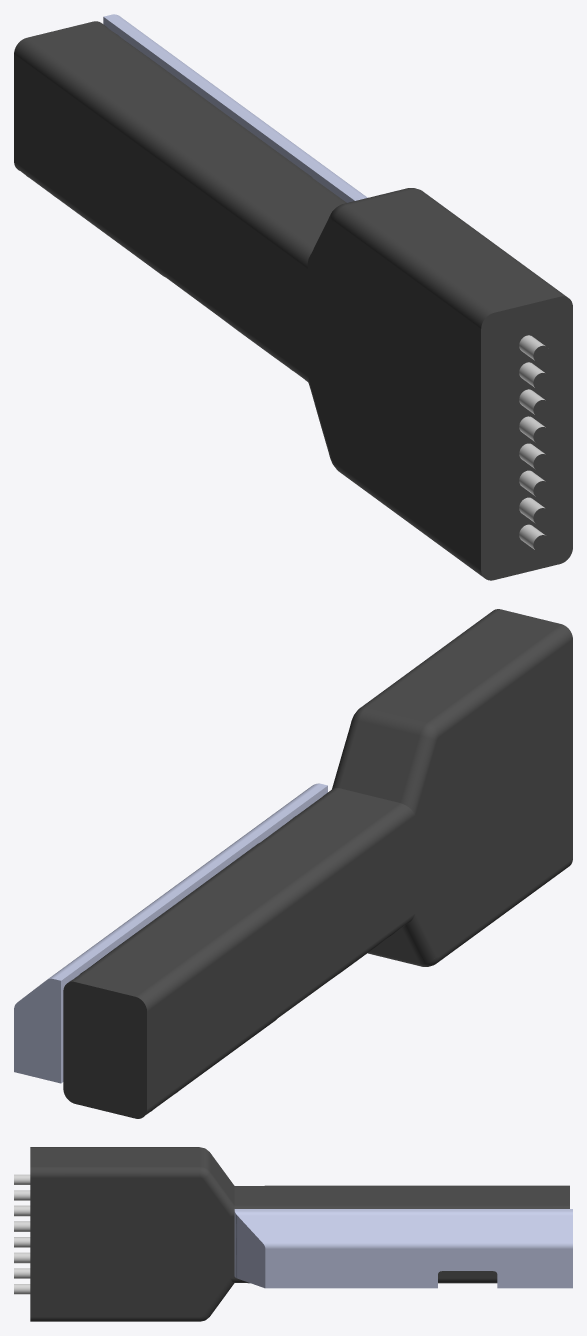
The picture shows the model from 3 angles, top to bottom: view 1: azimuth 30°, elevation 25°; view 2: azimuth 150°, elevation 25°; view 3: azimuth 270°, elevation 25°; orthographic projection. The views are drawn at different scales.
Visible parts, largest first — view 1: LH pipette.IGS (×2); view 2: LH pipette.IGS (×2); view 3: LH pipette.IGS (×2).
Part boxes in pixels (x1=…): LH pipette.IGS (×2): x1=14, y1=14, x2=572, y2=580; LH pipette.IGS (×2): x1=14, y1=609, x2=572, y2=1118; LH pipette.IGS (×2): x1=14, y1=1147, x2=572, y2=1321.
Bounding box in the file's own units: 0.05 × 0.089 × 0.2919.
